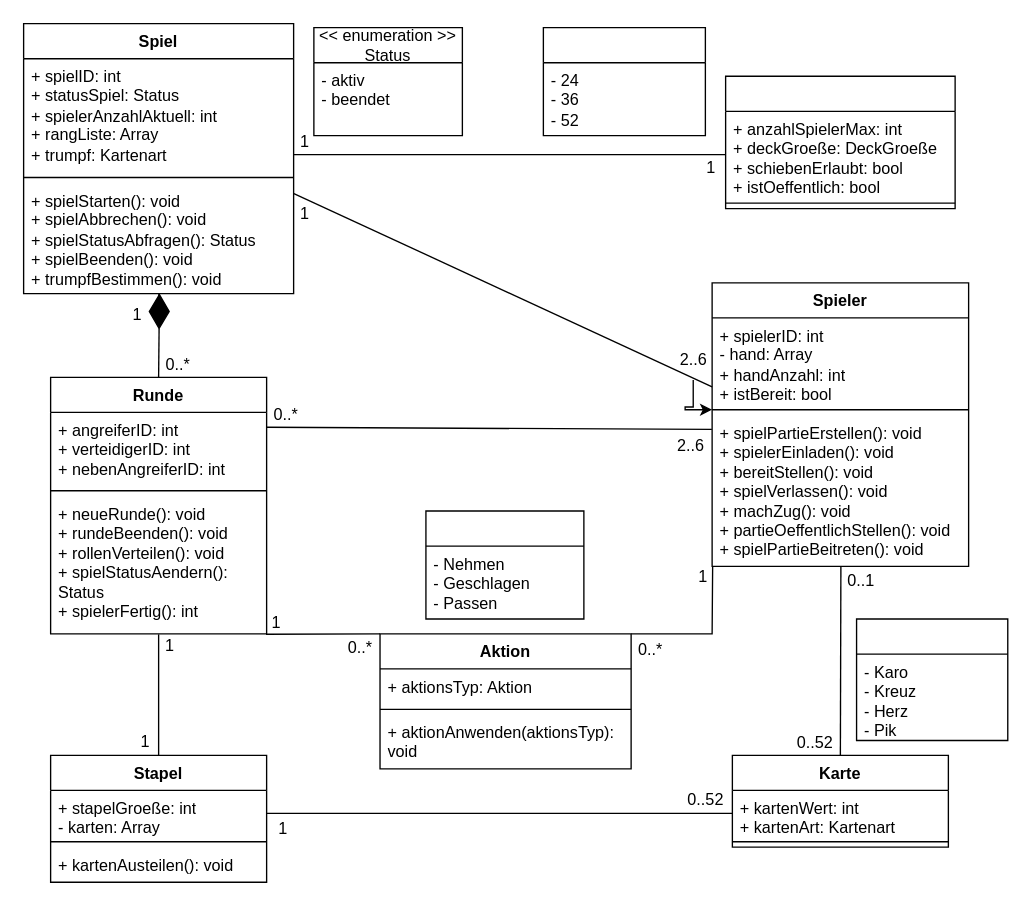
The diagram is 1031 pixels wide and 910 high, and some of its shapes have lost their labels. Here are the shapes that lost their labels. From the top down, the box of each, then its label:
(542, 26, 705, 136): << enumeration >> DeckGroeße
(724, 75, 955, 209): Spieleinstellungen
(425, 510, 584, 619): << enumeration >> Aktion
(855, 618, 1008, 740): << enumeration >> Kartenart
